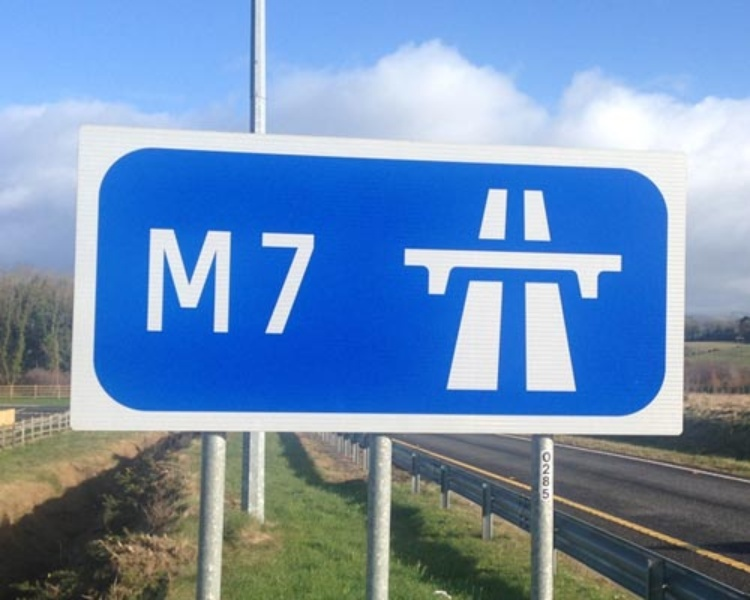text: (161, 229, 176, 337), (177, 229, 192, 337), (193, 229, 208, 337), (209, 229, 224, 337), (225, 229, 240, 337), (241, 229, 256, 337), (257, 229, 272, 337), (273, 229, 288, 337), (289, 229, 304, 337), (305, 229, 320, 337), (149, 229, 160, 337), (545, 451, 551, 500), (321, 229, 322, 337), (542, 451, 544, 500)
